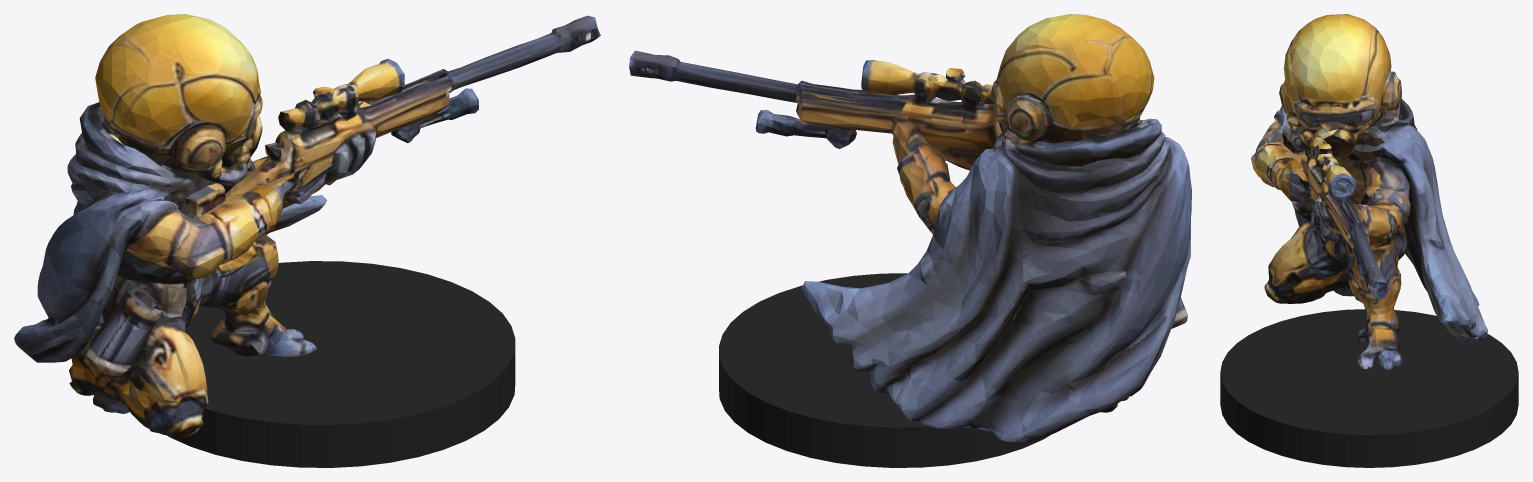
Rendered from pf-marksman.glb.
The picture shows the model from 3 angles, left to right: view 1: azimuth 30°, elevation 25°; view 2: azimuth 150°, elevation 25°; view 3: azimuth 270°, elevation 25°; orthographic projection. The views are drawn at different scales.
Visible parts, largest first — view 1: figure, base; view 2: figure, base; view 3: figure, base.
Part boxes in pixels (x1,y1,x2,y2): figure: (14,14,600,437); base: (168,261,515,467); figure: (629,14,1191,441); base: (719,273,1050,467); figure: (1251,14,1487,369); base: (1220,309,1518,467).
Bounding box in the file's own units: 1.64 × 1.17 × 0.9843.
Materials: 2 (1 with a texture image).
